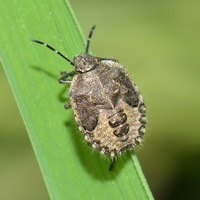insect: (32, 25, 145, 169)
